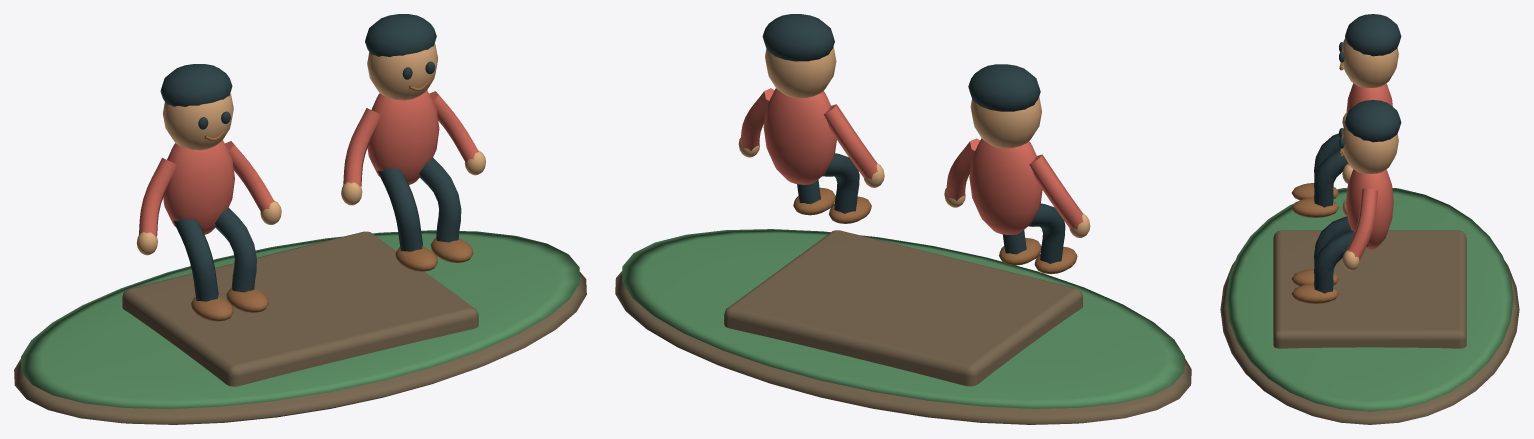
File: sitting-together.glb
3 renders of one model, left to right at view 1: azimuth 30°, elevation 25°; view 2: azimuth 150°, elevation 25°; view 3: azimuth 270°, elevation 25°, orthographic. The views are drawn at different scales.
Visible parts, largest first — view 1: sitting-together_surface_00, sitting-together_surface_01, sitting-together_surface_05, sitting-together_surface_03, sitting-together_surface_02, sitting-together_surface_04; view 2: sitting-together_surface_00, sitting-together_surface_01, sitting-together_surface_05, sitting-together_surface_03, sitting-together_surface_02, sitting-together_surface_04; view 3: sitting-together_surface_01, sitting-together_surface_00, sitting-together_surface_03, sitting-together_surface_05, sitting-together_surface_02, sitting-together_surface_04.
Boxes of the visible parts, box(x1,y1,x2,y2) form: sitting-together_surface_00: box(14, 231, 586, 424); sitting-together_surface_01: box(21, 230, 579, 408); sitting-together_surface_05: box(138, 90, 478, 236); sitting-together_surface_03: box(160, 14, 461, 301); sitting-together_surface_02: box(136, 43, 485, 255); sitting-together_surface_04: box(191, 81, 473, 321); sitting-together_surface_00: box(615, 230, 1191, 424); sitting-together_surface_01: box(622, 229, 1184, 408); sitting-together_surface_05: box(740, 88, 1083, 234); sitting-together_surface_03: box(762, 14, 1065, 263); sitting-together_surface_02: box(738, 46, 1090, 237); sitting-together_surface_04: box(793, 187, 1077, 274); sitting-together_surface_01: box(1226, 188, 1513, 411); sitting-together_surface_00: box(1220, 230, 1519, 424); sitting-together_surface_03: box(1314, 14, 1401, 293); sitting-together_surface_05: box(1346, 83, 1393, 261); sitting-together_surface_02: box(1341, 38, 1398, 270); sitting-together_surface_04: box(1291, 62, 1343, 303).
Size of the model in its own units: 4.56 by 2.44 by 2.5.
